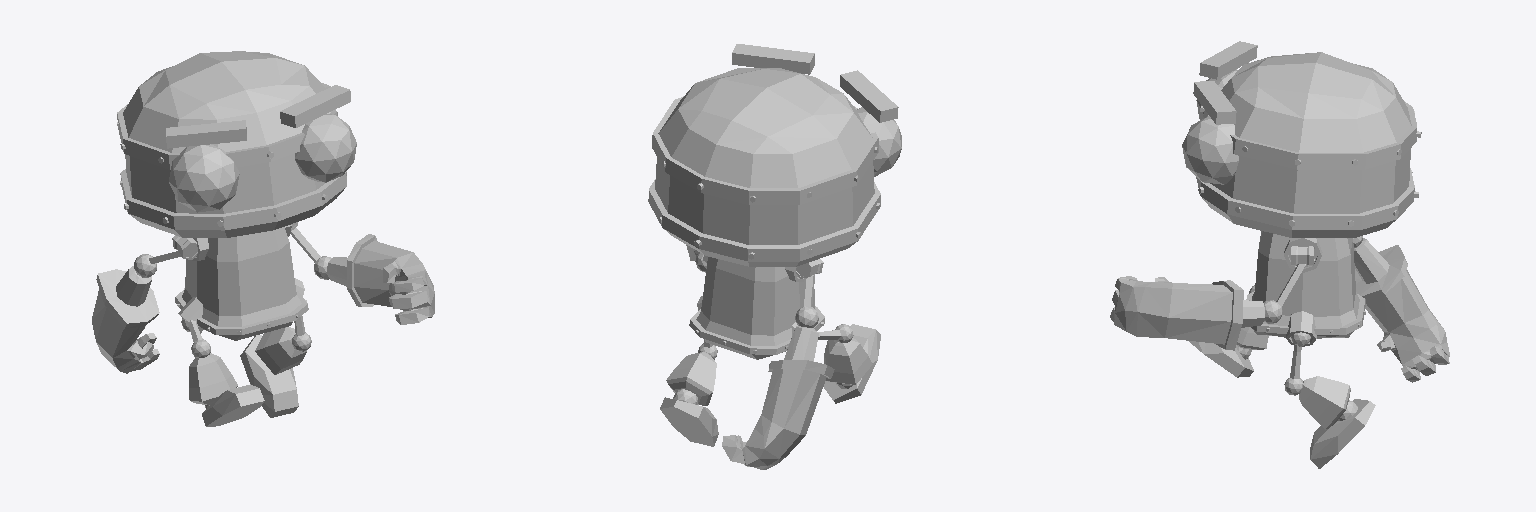
Rendered from Robot_000016.obj.
3 renders of one model, left to right at view 1: azimuth 30°, elevation 25°; view 2: azimuth 150°, elevation 25°; view 3: azimuth 270°, elevation 25°, orthographic.
Parts seen in each view (by area): view 1: Head_Cylinder, Torso_Cube.001, Hand.L_Cylinder.022, Hand.R_Cylinder.015, Foot.L_Cylinder.014, LowerLeg.R_Cylinder.018, Foot.R_Cylinder.017, LowerLeg.L_Cylinder.012, Arm.L_Cylinder.010, Arm.R_Cylinder.013; view 2: Head_Cylinder, Torso_Cube.001, Hand.R_Cylinder.015, LowerLeg.L_Cylinder.012, Foot.L_Cylinder.014, LowerLeg.R_Cylinder.018, Foot.R_Cylinder.017, Arm.R_Cylinder.013; view 3: Head_Cylinder, Torso_Cube.001, Hand.L_Cylinder.022, Hand.R_Cylinder.015, LowerLeg.L_Cylinder.012, Foot.L_Cylinder.014, Foot.R_Cylinder.017, Arm.L_Cylinder.010, LowerLeg.R_Cylinder.018, Leg.L_Cylinder.011.
Boxes of the visible parts, <box> form: Head_Cylinder: <box>117,51,356,237</box>; Torso_Cube.001: <box>175,225,308,340</box>; Hand.L_Cylinder.022: <box>326,234,434,324</box>; Hand.R_Cylinder.015: <box>92,266,159,373</box>; Foot.L_Cylinder.014: <box>240,335,298,417</box>; LowerLeg.R_Cylinder.018: <box>189,353,237,408</box>; Foot.R_Cylinder.017: <box>202,384,264,426</box>; LowerLeg.L_Cylinder.012: <box>255,327,306,374</box>; Arm.L_Cylinder.010: <box>291,228,331,279</box>; Arm.R_Cylinder.013: <box>134,251,180,277</box>; Head_Cylinder: <box>648,44,901,266</box>; Torso_Cube.001: <box>689,257,824,359</box>; Hand.R_Cylinder.015: <box>722,326,834,469</box>; LowerLeg.L_Cylinder.012: <box>666,352,716,405</box>; Foot.L_Cylinder.014: <box>660,397,718,446</box>; LowerLeg.R_Cylinder.018: <box>824,338,872,388</box>; Foot.R_Cylinder.017: <box>824,324,880,403</box>; Arm.R_Cylinder.013: <box>795,274,818,327</box>; Head_Cylinder: <box>1182,41,1421,237</box>; Torso_Cube.001: <box>1246,231,1365,346</box>; Hand.L_Cylinder.022: <box>1110,276,1265,350</box>; Hand.R_Cylinder.015: <box>1354,238,1449,382</box>; LowerLeg.L_Cylinder.012: <box>1299,376,1357,429</box>; Foot.L_Cylinder.014: <box>1310,399,1375,468</box>; Foot.R_Cylinder.017: <box>1189,341,1253,377</box>; Arm.L_Cylinder.010: <box>1264,264,1305,323</box>; LowerLeg.R_Cylinder.018: <box>1236,327,1268,359</box>; Leg.L_Cylinder.011: <box>1284,344,1302,395</box>.
Bounding box in the file's own units: 2.89 × 4.53 × 3.78.